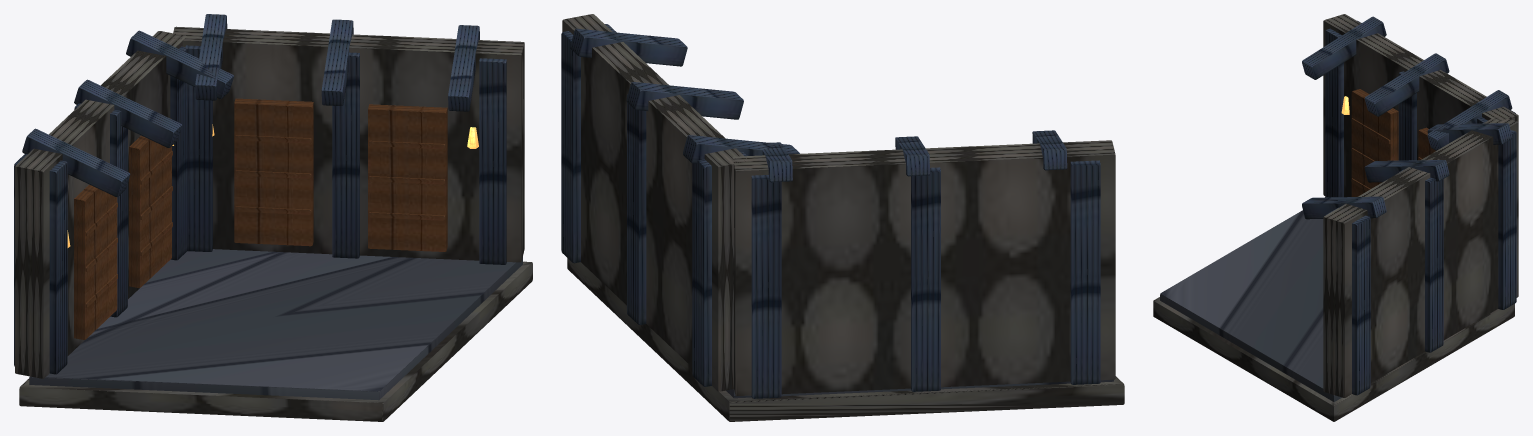
File: env_castle_dungeon.glb
3 renders of one model, left to right at view 1: azimuth 30°, elevation 25°; view 2: azimuth 150°, elevation 25°; view 3: azimuth 270°, elevation 25°, orthographic. The views are drawn at different scales.
Visible parts, largest first — view 1: DG_Floor, DG_WallR, DG_WallL, DG_Floor_Rim, DG_ShelfCase_1_0, DG_ShelfCase_1_1, DG_Pier_1_0.92, DG_ShelfCase_0_0, DG_ShelfCase_0_1, DG_Pier_1_0.5, DG_Pier_1_0.08, DG_Pier_0_0.08 (+8 smaller); view 2: DG_WallL, DG_WallR, DG_Floor_Rim, DG_Pier_0_0.08, DG_Pier_0_0.92, DG_Pier_0_0.5, DG_Pier_1_0.08, DG_Pier_1_0.92, DG_Pier_1_0.5, DG_VaultRib_1_0.5, DG_VaultRib_1_0.92, DG_VaultRib_1_0.08 (+4 smaller); view 3: DG_WallR, DG_Floor, DG_WallL, DG_Floor_Rim, DG_Pier_1_0.92, DG_Pier_1_0.5, DG_Pier_1_0.08, DG_ShelfCase_0_0, DG_Pier_0_0.08, DG_VaultRib_0_0.5, DG_VaultRib_0_0.08, DG_VaultRib_1_0.92 (+5 smaller).
Part boxes in pixels (x1,y1,x2,y2): DG_Floor: [29, 249, 522, 400]; DG_WallR: [172, 26, 524, 262]; DG_WallL: [15, 31, 186, 378]; DG_Floor_Rim: [19, 261, 532, 421]; DG_ShelfCase_1_0: [234, 98, 313, 246]; DG_ShelfCase_1_1: [368, 104, 447, 251]; DG_Pier_1_0.92: [479, 58, 506, 264]; DG_ShelfCase_0_0: [74, 184, 117, 339]; DG_ShelfCase_0_1: [129, 118, 171, 287]; DG_Pier_1_0.5: [332, 52, 359, 258]; DG_Pier_1_0.08: [185, 45, 212, 251]; DG_Pier_0_0.08: [14, 154, 67, 374]; DG_WallL: [732, 140, 1115, 395]; DG_WallR: [562, 14, 746, 391]; DG_Floor_Rim: [567, 258, 1124, 421]; DG_Pier_0_0.08: [1070, 160, 1100, 384]; DG_Pier_0_0.92: [751, 175, 781, 398]; DG_Pier_0_0.5: [911, 167, 940, 391]; DG_Pier_1_0.08: [692, 152, 747, 386]; DG_Pier_1_0.92: [561, 24, 616, 263]; DG_Pier_1_0.5: [627, 94, 646, 324]; DG_VaultRib_1_0.5: [626, 82, 743, 119]; DG_VaultRib_1_0.92: [570, 28, 687, 66]; DG_VaultRib_1_0.08: [683, 135, 799, 163]; DG_WallR: [1323, 116, 1518, 397]; DG_Floor: [1160, 197, 1341, 401]; DG_WallL: [1323, 14, 1518, 197]; DG_Floor_Rim: [1153, 297, 1514, 421]; DG_Pier_1_0.92: [1326, 207, 1370, 395]; DG_Pier_1_0.5: [1399, 169, 1443, 352]; DG_Pier_1_0.08: [1482, 122, 1516, 309]; DG_ShelfCase_0_0: [1351, 89, 1398, 196]; DG_Pier_0_0.08: [1325, 20, 1361, 197]; DG_VaultRib_0_0.5: [1364, 53, 1449, 116]; DG_VaultRib_0_0.08: [1302, 16, 1386, 79]; DG_VaultRib_1_0.92: [1302, 196, 1386, 219].
Size of the model in its own units: 7.9 by 3.61 by 5.78.
Materials: 7 (5 with a texture image).
